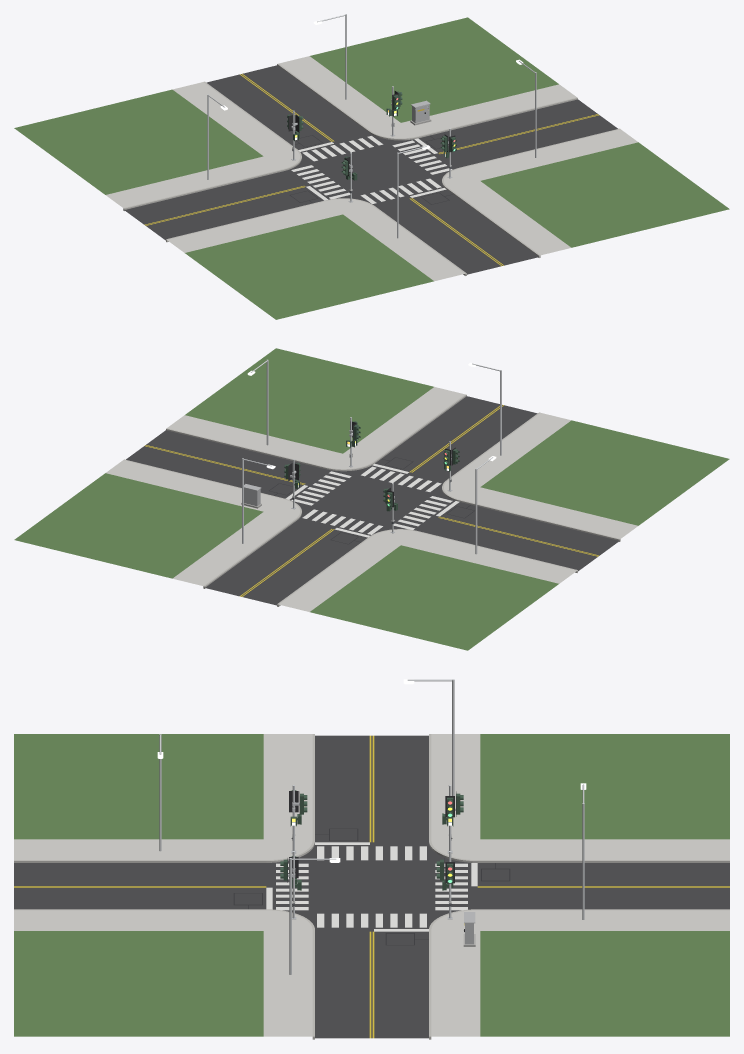
The model's file is traffic_intersection.glb.
The picture shows the model from 3 angles, top to bottom: view 1: azimuth 30°, elevation 25°; view 2: azimuth 150°, elevation 25°; view 3: azimuth 270°, elevation 25°; orthographic projection. The views are drawn at different scales.
Visible parts, largest first — view 1: ROAD_Surface, VERGE_SE, VERGE_SW, VERGE_NW, VERGE_NE, FOOT_SW, FOOT_SE, FOOT_NW, FOOT_NE, KERB_NE, KERB_NW, KERB_SE (+5 smaller); view 2: ROAD_Surface, VERGE_NW, VERGE_SW, VERGE_NE, VERGE_SE, FOOT_NW, FOOT_SE, FOOT_SW, FOOT_NE, KERB_SE, KERB_SW, KERB_NE (+5 smaller); view 3: ROAD_Surface, VERGE_NE, VERGE_SE, VERGE_NW, VERGE_SW, FOOT_SE, FOOT_NE, FOOT_SW, FOOT_NW, KERB_NW, KERB_SW, MARK_Cross_E (+7 smaller).
Boxes of the visible parts, x1=… form: ROAD_Surface: x1=124, y1=65, x2=617, y2=274; VERGE_SE: x1=481, y1=142, x2=729, y2=247; VERGE_SW: x1=185, y1=214, x2=433, y2=319; VERGE_NW: x1=14, y1=89, x2=263, y2=194; VERGE_NE: x1=310, y1=17, x2=558, y2=122; FOOT_SW: x1=167, y1=199, x2=464, y2=281; FOOT_SE: x1=444, y1=129, x2=637, y2=255; FOOT_NW: x1=106, y1=82, x2=299, y2=207; FOOT_NE: x1=279, y1=56, x2=576, y2=138; KERB_NE: x1=277, y1=63, x2=577, y2=140; KERB_NW: x1=123, y1=81, x2=301, y2=210; KERB_SE: x1=442, y1=128, x2=620, y2=257; ROAD_Surface: x1=126, y1=396, x2=619, y2=605; VERGE_NW: x1=310, y1=545, x2=558, y2=650; VERGE_SW: x1=480, y1=420, x2=729, y2=525; VERGE_NE: x1=14, y1=473, x2=263, y2=578; VERGE_SE: x1=185, y1=348, x2=433, y2=453; FOOT_NW: x1=279, y1=530, x2=576, y2=611; FOOT_SE: x1=167, y1=387, x2=464, y2=468; FOOT_SW: x1=444, y1=413, x2=637, y2=538; FOOT_NE: x1=106, y1=460, x2=299, y2=585; KERB_SE: x1=166, y1=394, x2=466, y2=471; KERB_SW: x1=442, y1=412, x2=620, y2=541; KERB_NE: x1=124, y1=459, x2=301, y2=588; ROAD_Surface: x1=14, y1=735, x2=729, y2=1038; VERGE_NE: x1=480, y1=931, x2=729, y2=1036; VERGE_SE: x1=14, y1=931, x2=263, y2=1036; VERGE_NW: x1=480, y1=734, x2=729, y2=839; VERGE_SW: x1=14, y1=734, x2=263, y2=839; FOOT_SE: x1=14, y1=910, x2=312, y2=1036; FOOT_NE: x1=431, y1=910, x2=729, y2=1036; FOOT_SW: x1=14, y1=734, x2=312, y2=859; FOOT_NW: x1=431, y1=734, x2=729, y2=859; KERB_NW: x1=429, y1=734, x2=729, y2=862; KERB_SW: x1=14, y1=734, x2=314, y2=862; MARK_Cross_E: x1=317, y1=913, x2=426, y2=927.
Size of the model in its own units: 44 by 8.1 by 44.
